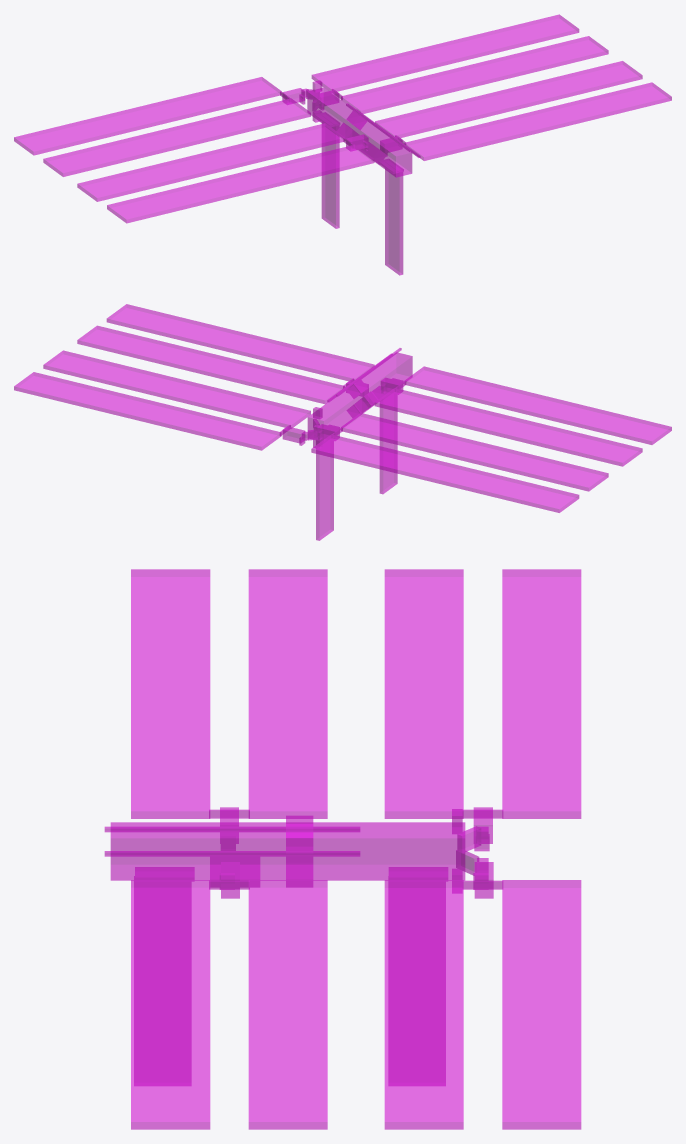
The model's file is SolarPanelsMainArmLeftCollider.fbx.
The picture shows the model from 3 angles, top to bottom: view 1: azimuth 30°, elevation 25°; view 2: azimuth 150°, elevation 25°; view 3: azimuth 270°, elevation 25°; orthographic projection. The views are drawn at different scales.
Parts seen in each view (by area): view 1: SolarPanelsMainArmLeftCollision; view 2: SolarPanelsMainArmLeftCollision; view 3: SolarPanelsMainArmLeftCollision.
Part boxes in pixels (<box>): SolarPanelsMainArmLeftCollision: <box>14,14,671,275</box>; SolarPanelsMainArmLeftCollision: <box>14,304,671,540</box>; SolarPanelsMainArmLeftCollision: <box>104,569,581,1129</box>.
Size of the model in its own units: 7364 by 1736 by 2786.
